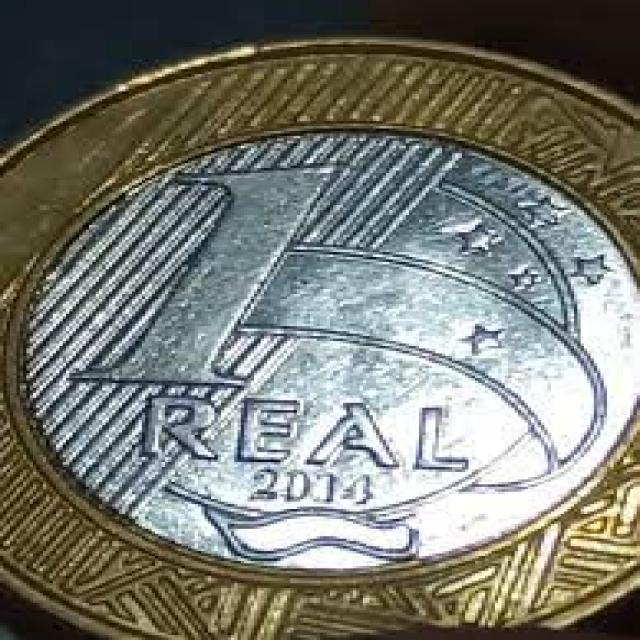1 real: (5, 42, 640, 636)
